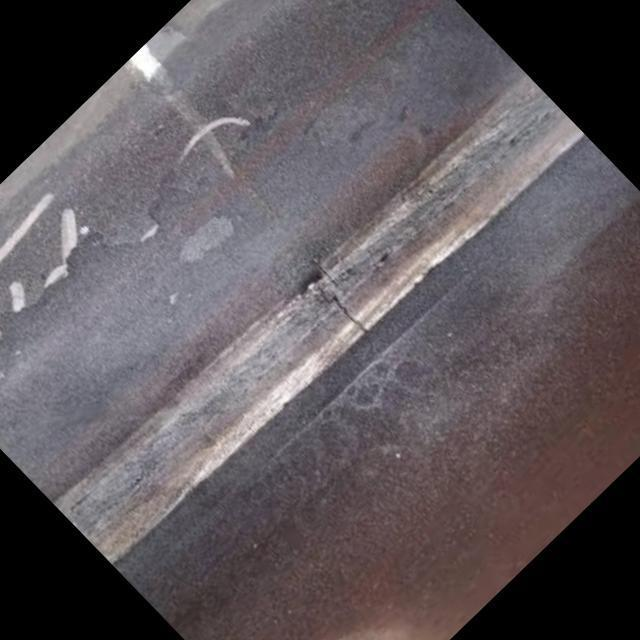defect: (313, 286, 373, 339)
